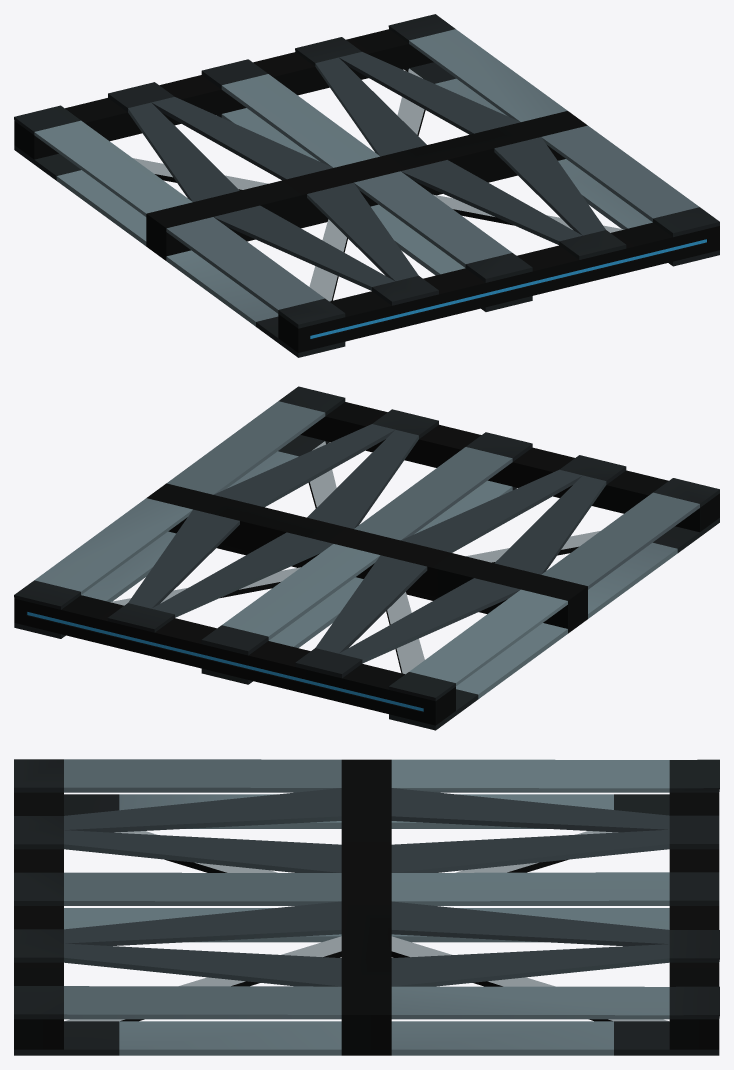
Rendered from Future Large Pallet.fbx.
3 renders of one model, top to bottom at view 1: azimuth 30°, elevation 25°; view 2: azimuth 150°, elevation 25°; view 3: azimuth 270°, elevation 25°, orthographic. The views are drawn at different scales.
Visible parts, largest first — view 1: Future Large Pallet; view 2: Future Large Pallet; view 3: Future Large Pallet.
Boxes of the visible parts, x1,y1,x2,y2 form: Future Large Pallet: (14, 14, 719, 357); Future Large Pallet: (14, 386, 719, 730); Future Large Pallet: (14, 759, 719, 1055).
Size of the model in its own units: 37.33 by 573 by 490.
1 material, 1 textured.
